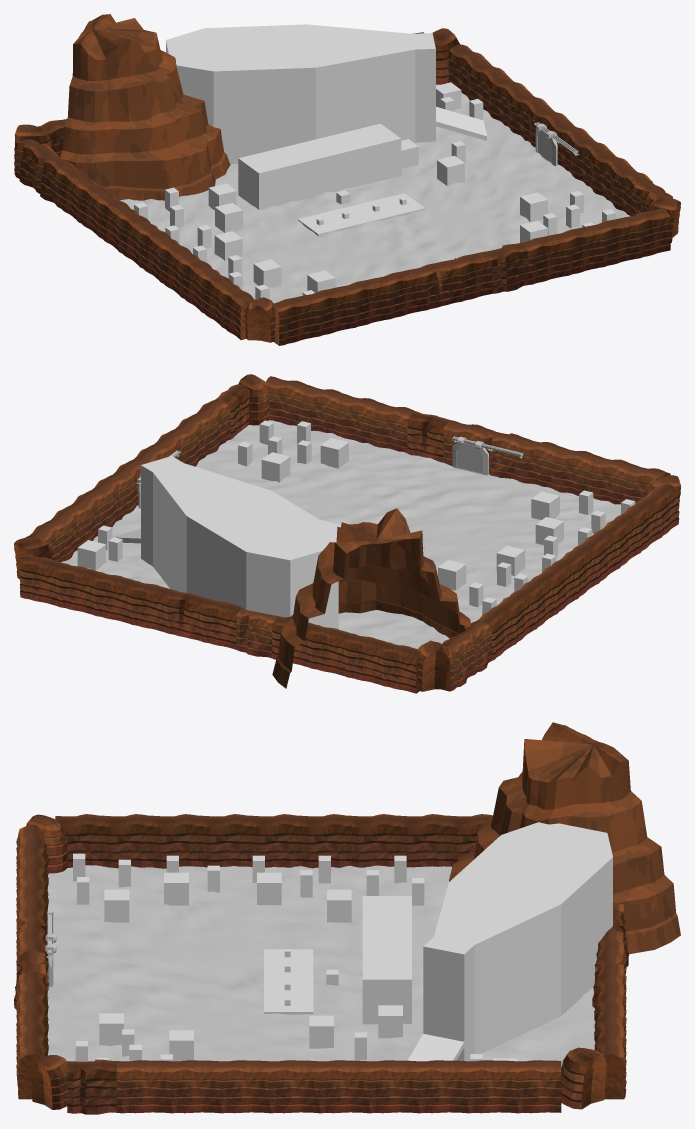
File: level1V2_shop_45_final.fbx
The picture shows the model from 3 angles, top to bottom: view 1: azimuth 30°, elevation 25°; view 2: azimuth 150°, elevation 25°; view 3: azimuth 270°, elevation 25°; orthographic projection. The views are drawn at different scales.
Parts seen in each view (by area): view 1: level1_wall017, Plane074, Box066, Pyramid003, Box067, Box069, Box074, Box081, Box076, level1_door, Box075, Box079 (+2 smaller); view 2: level1_wall017, Plane074, Box066, Pyramid003, level1_door001, Box079, Box078, Box101, Box074, Box077, Box075, Box076; view 3: level1_wall017, Plane074, Box066, Pyramid003, Box067, Box069, Box077, Box074, Box075, Box081, Box076, Box103 (+2 smaller).
Part boxes in pixels (x1,y1,x2,y2): level1_wall017: [14, 28, 680, 345]; Plane074: [120, 84, 630, 302]; Box066: [166, 24, 486, 163]; Pyramid003: [60, 14, 230, 200]; Box067: [238, 123, 401, 209]; Box069: [298, 193, 425, 236]; Box074: [215, 203, 242, 232]; Box081: [437, 155, 464, 185]; Box076: [253, 259, 281, 287]; level1_door: [535, 123, 557, 166]; Box075: [214, 231, 242, 260]; Box079: [520, 192, 547, 222]; level1_wall017: [14, 374, 680, 693]; Plane074: [61, 420, 620, 648]; Box066: [112, 456, 338, 629]; Pyramid003: [272, 508, 470, 688]; level1_door001: [452, 436, 488, 475]; Box079: [261, 452, 290, 482]; Box078: [320, 438, 348, 468]; Box101: [77, 540, 105, 570]; Box074: [438, 560, 466, 590]; Box077: [531, 491, 559, 519]; Box075: [496, 545, 525, 576]; Box076: [535, 517, 563, 545]; level1_wall017: [14, 814, 628, 1114]; Plane074: [47, 865, 595, 1066]; Box066: [407, 822, 612, 1061]; Pyramid003: [449, 722, 680, 954]; Box067: [362, 896, 411, 1024]; Box069: [264, 949, 313, 1014]; Box077: [104, 889, 129, 922]; Box074: [327, 889, 351, 922]; Box075: [257, 872, 281, 905]; Box081: [309, 1015, 333, 1048]; Box076: [164, 872, 188, 905]; Box103: [378, 1005, 402, 1038].
Bounding box in the file's own units: 1965 × 617 × 2125.
